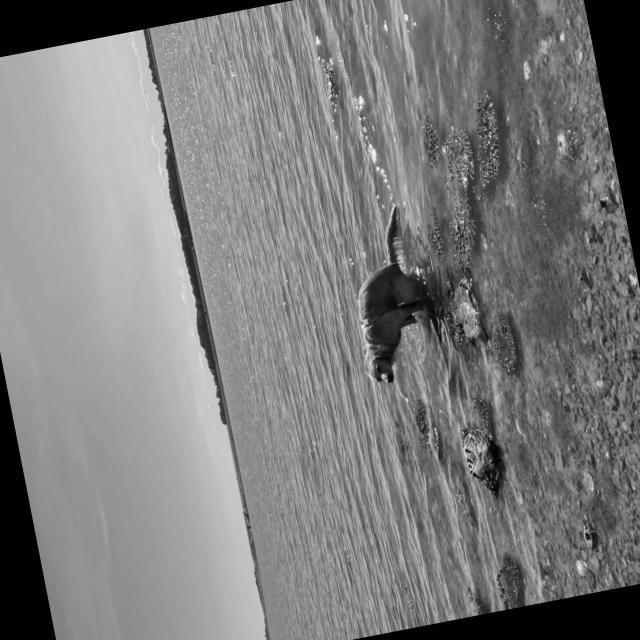squatting: (328, 194, 452, 394)
